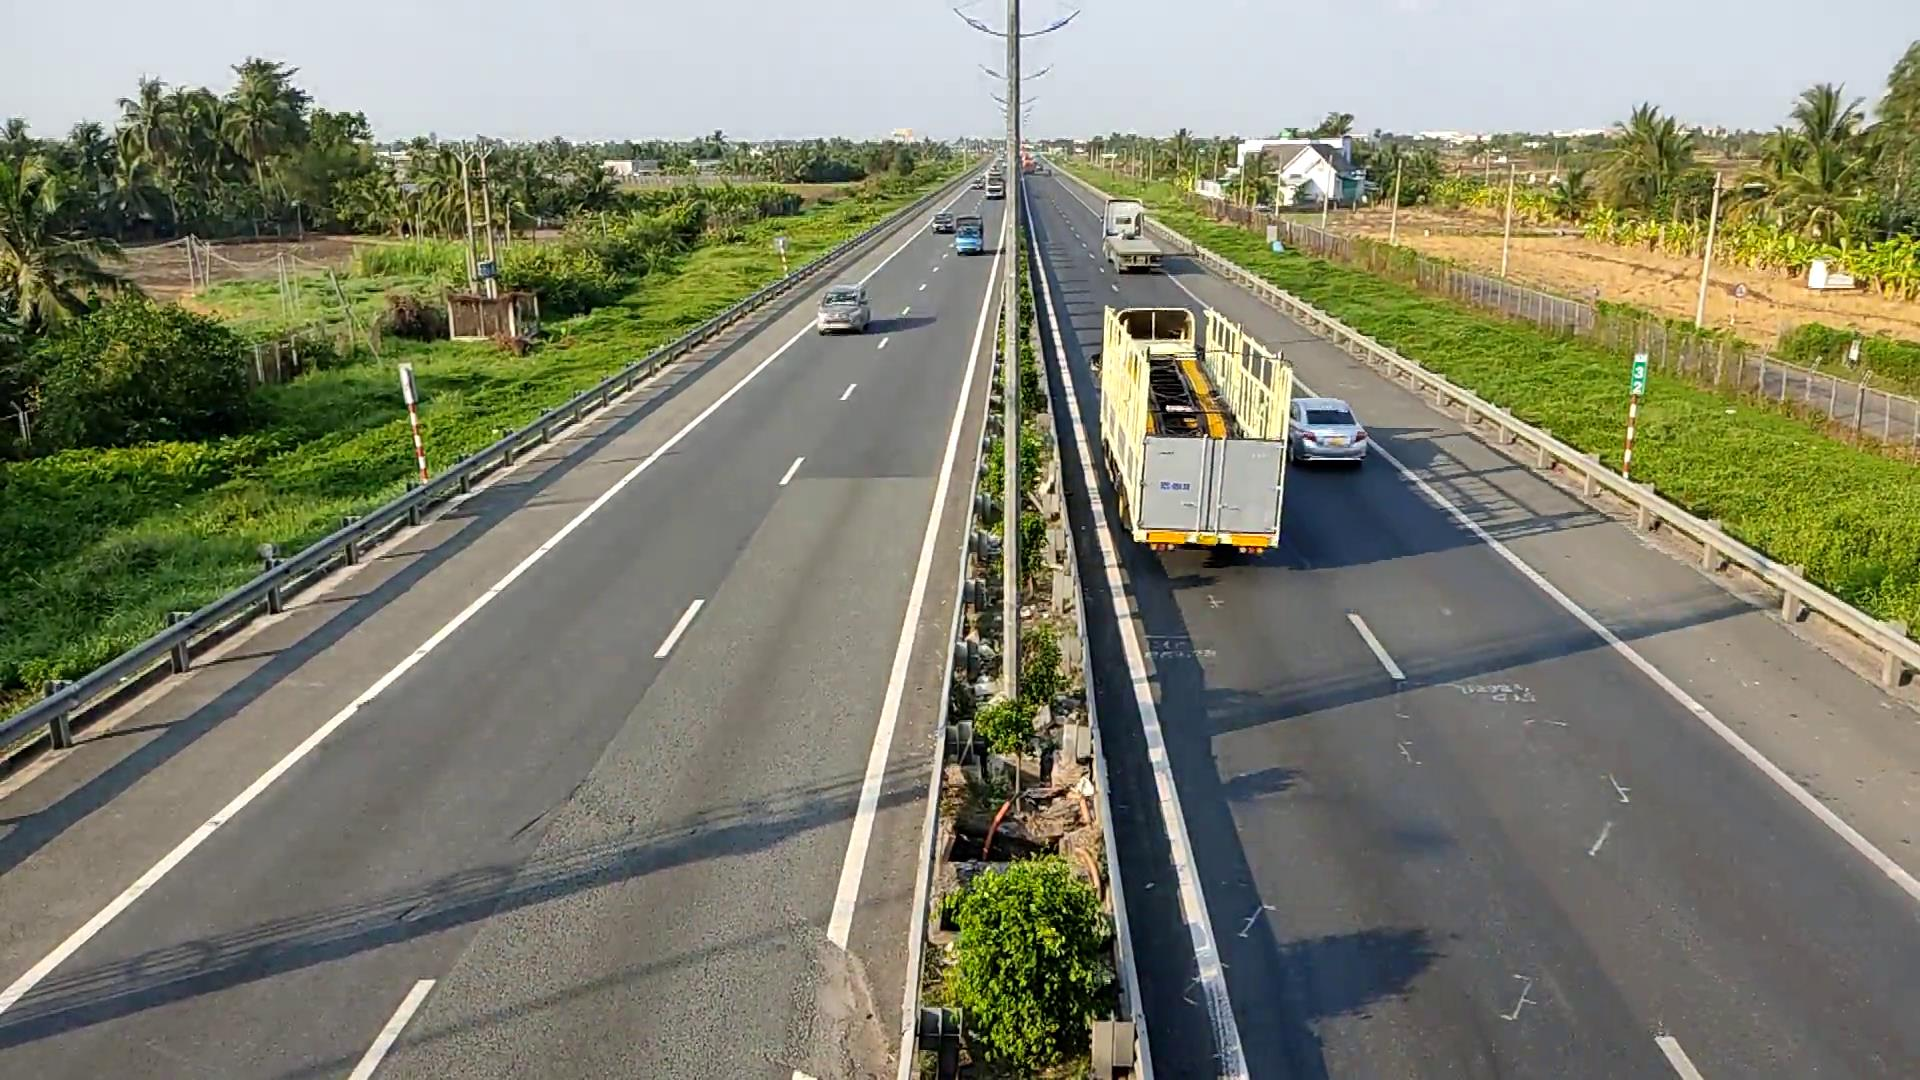car: (1288, 396, 1369, 467)
truck: (1092, 303, 1290, 558)
